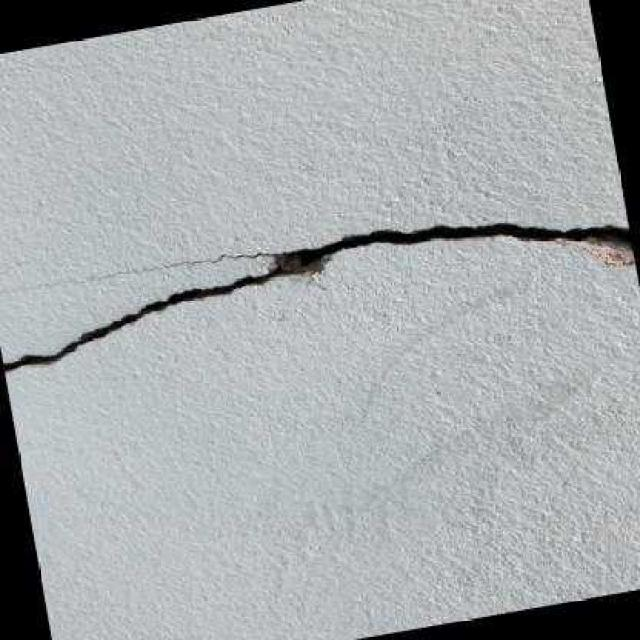D00: (2, 220, 635, 370)
